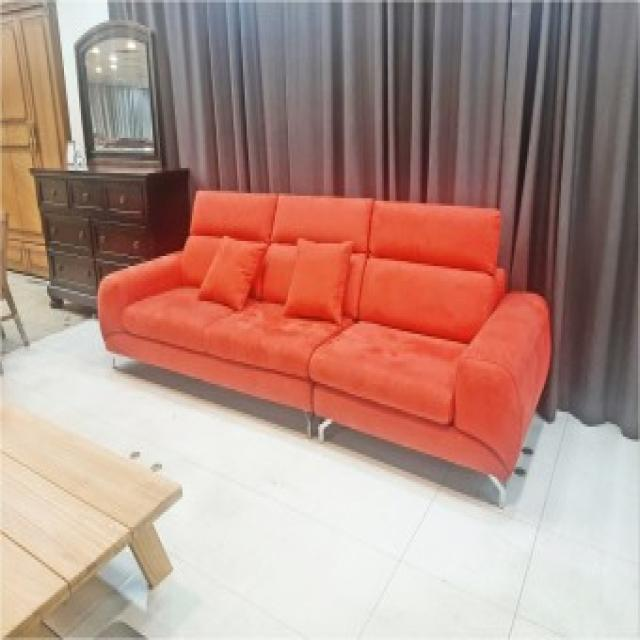Sofa: (93, 182, 556, 498)
